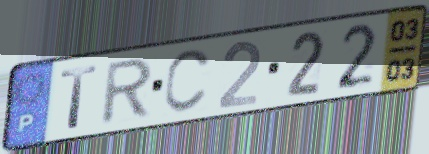2: (216, 38, 264, 111), (337, 21, 379, 92), (285, 29, 327, 98)
C: (161, 45, 215, 116)
R: (97, 54, 157, 128)
T: (58, 63, 100, 132)
